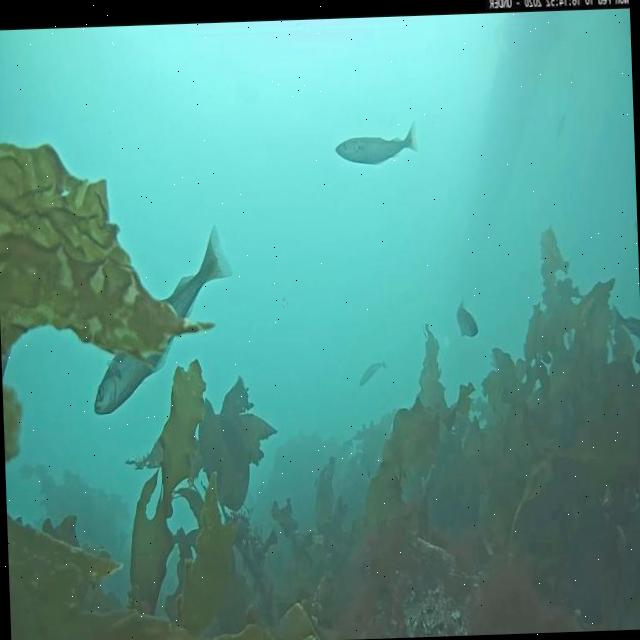fish: (86, 224, 232, 416), (333, 126, 416, 168), (454, 298, 478, 340), (359, 359, 389, 386)
